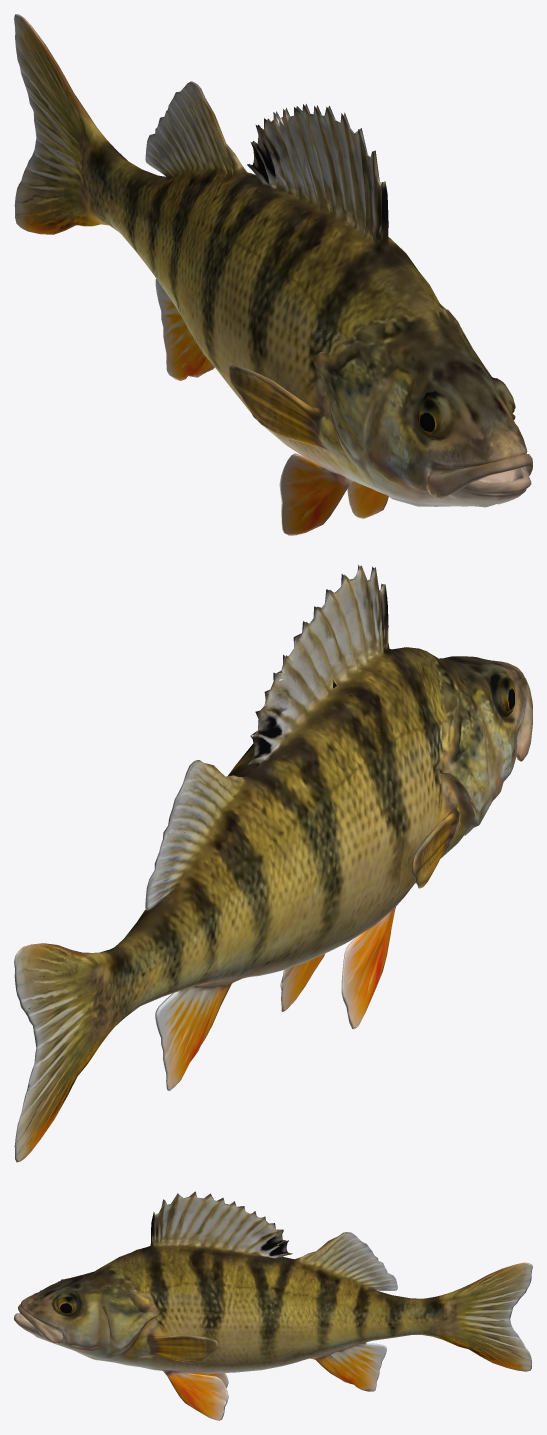
File: fish-perch.glb
3 views of the same model, one above another, from view 1: azimuth 30°, elevation 25°; view 2: azimuth 150°, elevation 25°; view 3: azimuth 270°, elevation 25° (orthographic). The views are drawn at different scales.
Visible parts, largest first — view 1: geometry_0; view 2: geometry_0; view 3: geometry_0.
Part boxes in pixels (x1=…): geometry_0: x1=14, y1=14, x2=532, y2=535; geometry_0: x1=14, y1=565, x2=532, y2=1162; geometry_0: x1=14, y1=1191, x2=532, y2=1420.
Bounding box in the file's own units: 0.2017 × 0.4463 × 0.9536.
Materials: 1 (1 with a texture image).
